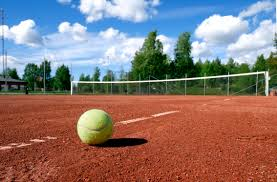tennis_ball: (76, 108, 114, 146)
